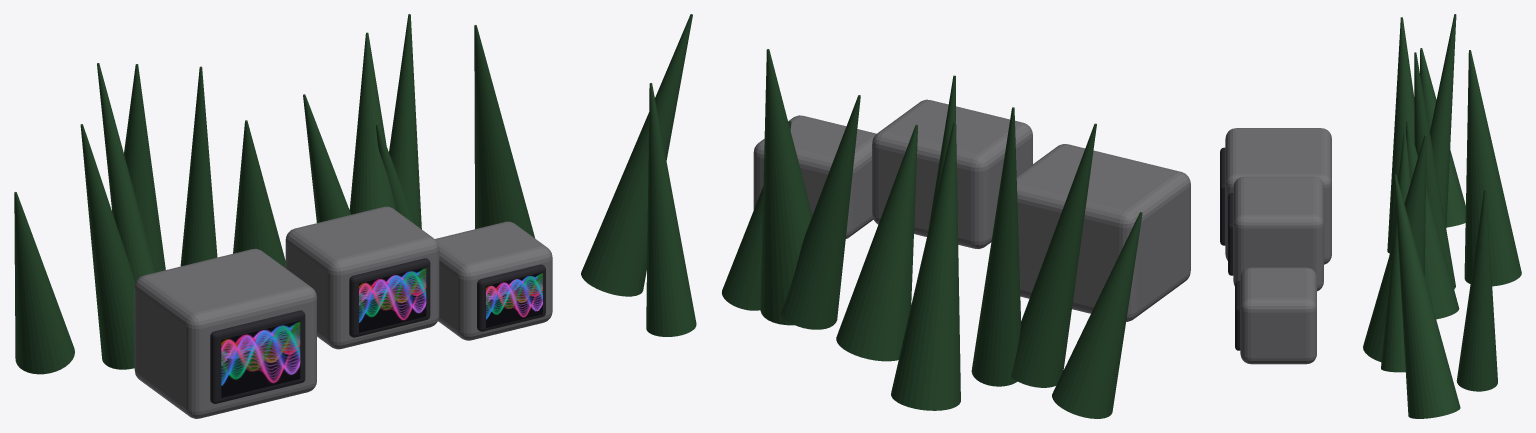
File: tvgarden.glb
3 views of the same model, side by side, from view 1: azimuth 30°, elevation 25°; view 2: azimuth 150°, elevation 25°; view 3: azimuth 270°, elevation 25° (orthographic). The views are drawn at different scales.
Parts seen in each view (by area): view 1: Cube, Cube.002, Cube.004, Cone.001, Cone, Cone.010, Plane.005, Cone.007, Cone.002, Cone.004, Cone.005, Cone.003 (+8 smaller); view 2: Cube, Cube.002, Cone.003, Cone.005, Cone.010, Cone.001, Cone.007, Cone.006, Cone.002, Cone, Cone.009, Cube.004 (+2 smaller); view 3: Cube.002, Cube.004, Cone.010, Cone.003, Cube, Cone.009, Cone.007, Cone.005, Cone.002, Cone.001, Cone.004, Cone.008 (+5 smaller).
Boxes of the visible parts, x1,y1,x2,y2 form: Cube: (134,248,316,418); Cube.002: (285,206,439,349); Cube.004: (435,221,552,340); Cone.001: (80,124,135,369); Cone: (14,192,74,374); Cone.010: (474,25,535,238); Plane.005: (221,320,300,397); Cone.007: (349,32,395,214); Cone.002: (97,63,156,281); Cone.004: (180,66,217,266); Cone.005: (233,120,285,267); Cone.003: (124,64,165,272); Cube: (1016,144,1190,321); Cube.002: (872,99,1032,248); Cone.003: (891,121,960,410); Cone.005: (836,124,917,361); Cone.010: (581,14,692,296); Cone.001: (1011,123,1096,387); Cone.007: (760,49,812,325); Cone.006: (780,95,860,329); Cone.002: (971,107,1021,386); Cone: (1052,212,1142,418); Cone.009: (646,83,696,336); Cube.004: (753,115,876,238); Cube.002: (1233,176,1323,291); Cube.004: (1240,267,1316,364); Cone.010: (1394,174,1460,418); Cone.003: (1464,50,1521,286); Cube: (1225,128,1331,264); Cone.009: (1456,189,1497,391); Cone.007: (1363,134,1426,362); Cone.005: (1406,121,1459,319); Cone.002: (1430,14,1456,227); Cone.001: (1387,17,1414,253); Cone.004: (1414,52,1455,289); Cone.008: (1381,215,1405,372).
Size of the model in its own units: 1.46 by 0.7458 by 0.8525.
6 materials, 3 textured.
